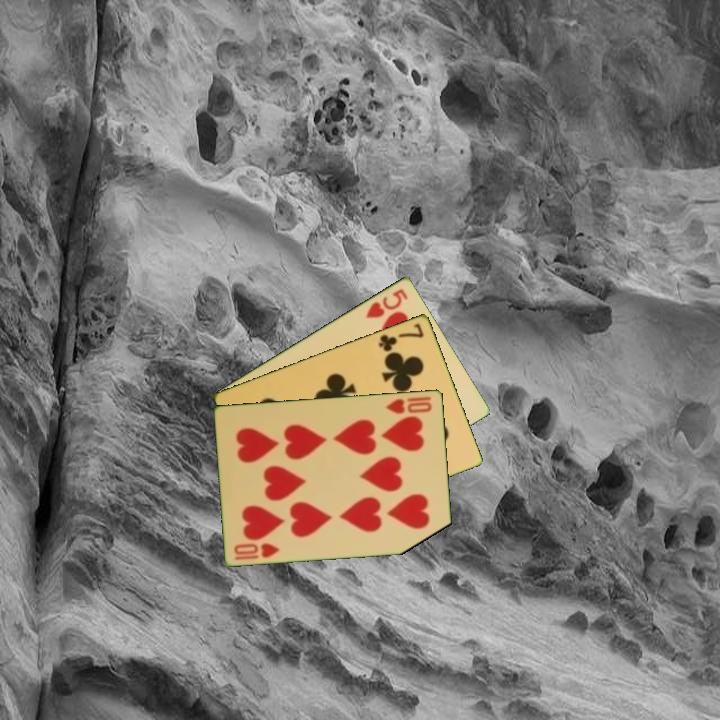10h: (383, 393, 435, 416), (231, 539, 283, 562)
5h: (362, 285, 411, 321)
7c: (375, 319, 427, 354)
